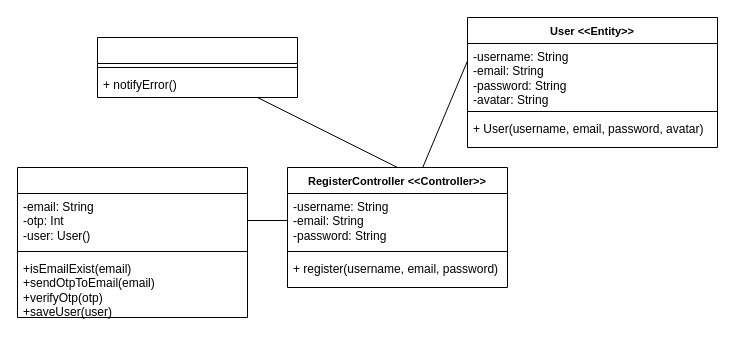
Some shapes in this 735 by 338 pixel diagram are drawn without their labels. Each missing label, with the box of its shape:
RegisterForm <<Boundary>>: (96, 36, 298, 98)
UserService: (16, 166, 248, 318)
